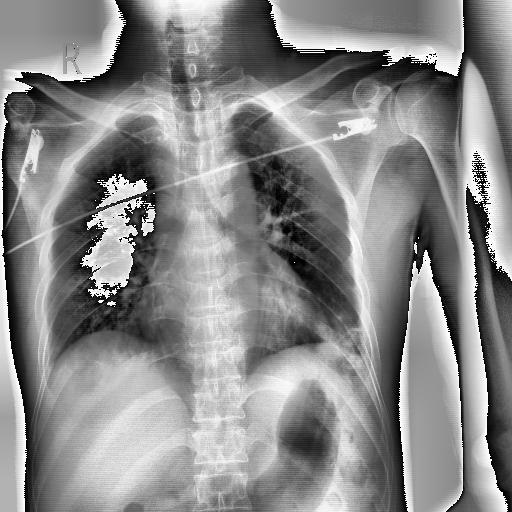0- Aortic enlargement: (200, 148, 256, 220)
11- Pleural thickening: (220, 92, 268, 124), (122, 98, 170, 123)
3- Cardiomegaly: (140, 266, 332, 348), (138, 287, 334, 349), (136, 294, 336, 350)
6- Infiltration: (330, 304, 356, 350)
7- Lung Opacity: (332, 312, 355, 349)
